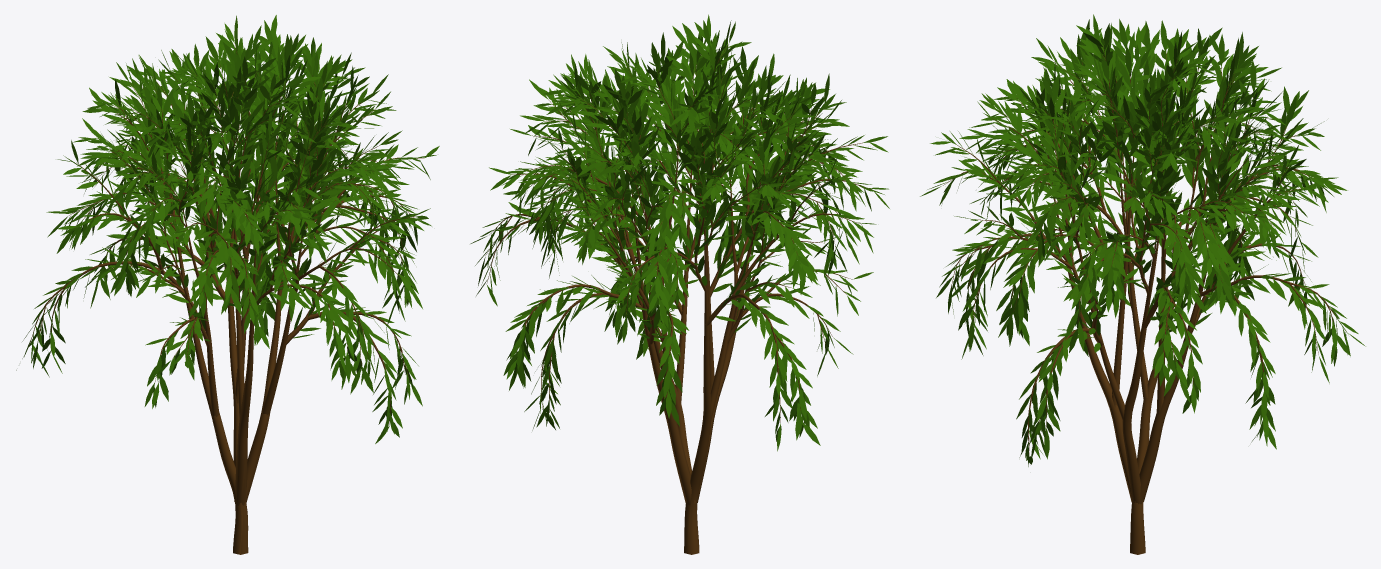
Rendered from tree1.fbx.
3 views of the same model, side by side, from view 1: azimuth 30°, elevation 25°; view 2: azimuth 150°, elevation 25°; view 3: azimuth 270°, elevation 25° (orthographic). The views are drawn at different scales.
Visible parts, largest first — view 1: leaves.002, tree.002; view 2: leaves.002, tree.002; view 3: leaves.002, tree.002.
Part boxes in pixels (x1,y1,x2,y2): leaves.002: [16, 15, 439, 443]; tree.002: [28, 43, 423, 554]; leaves.002: [470, 14, 889, 451]; tree.002: [485, 44, 871, 554]; leaves.002: [920, 14, 1365, 466]; tree.002: [943, 46, 1346, 554].
Bounding box in the file's own units: 640 × 807 × 618.
